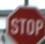Stop sign: (0, 0, 44, 43)
